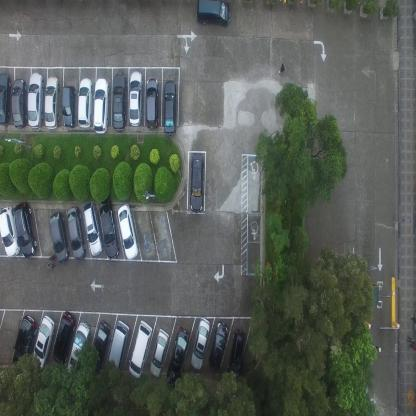car: (13, 200, 39, 258), (128, 318, 153, 378), (165, 326, 190, 386), (12, 313, 38, 370), (67, 318, 92, 375), (32, 313, 56, 371), (106, 318, 130, 376), (98, 197, 120, 260), (116, 202, 139, 260), (53, 309, 76, 367), (189, 316, 211, 370), (82, 201, 103, 257), (90, 319, 112, 372), (49, 211, 71, 263), (207, 320, 228, 372), (66, 206, 86, 260), (227, 329, 247, 381), (149, 328, 169, 379), (0, 205, 20, 256), (195, 0, 230, 29), (93, 77, 110, 134), (28, 70, 44, 130), (44, 75, 61, 131), (189, 151, 204, 213), (112, 71, 127, 132), (128, 69, 143, 127), (163, 80, 178, 136), (78, 77, 94, 129), (12, 78, 28, 129), (145, 77, 159, 130), (62, 84, 76, 129), (0, 72, 11, 127)
